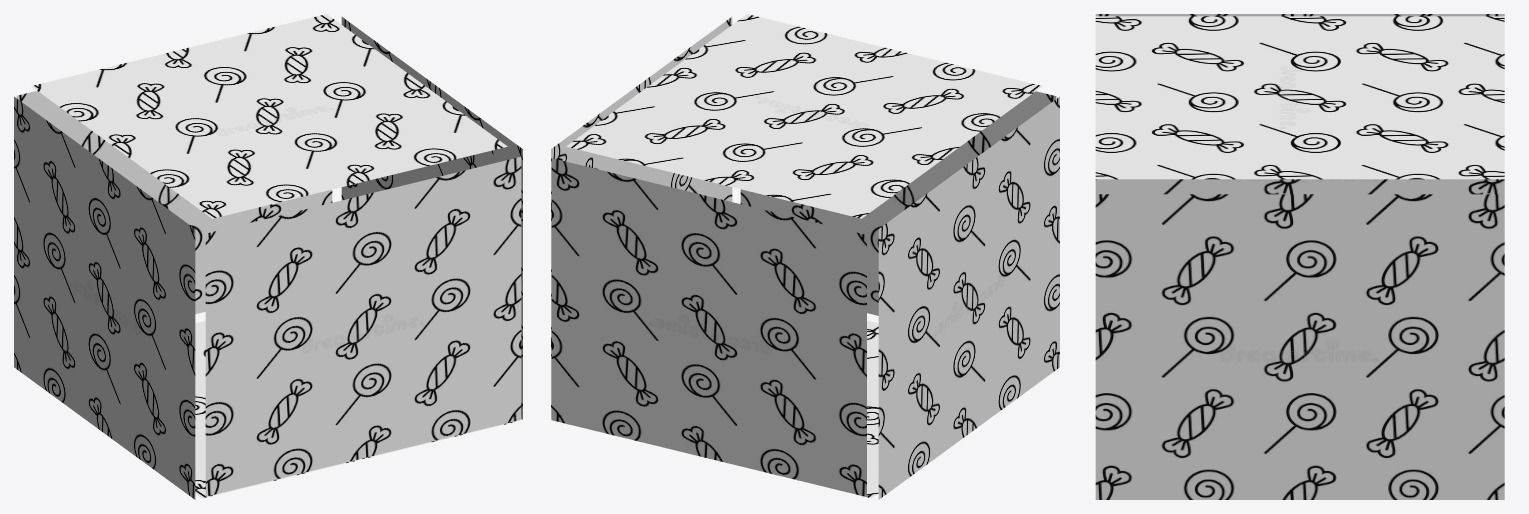
Rendered from pattern5-9x9x5.gltf.
3 renders of one model, left to right at view 1: azimuth 30°, elevation 25°; view 2: azimuth 150°, elevation 25°; view 3: azimuth 270°, elevation 25°, orthographic. The views are drawn at different scales.
Parts seen in each view (by area): view 1: Cube.005; view 2: Cube.005; view 3: Cube.005.
Boxes of the visible parts, x1,y1,x2,y2 form: Cube.005: [14, 14, 522, 499]; Cube.005: [551, 14, 1059, 499]; Cube.005: [1095, 14, 1504, 499].
Bounding box in the file's own units: 3 × 2.43 × 3.
Materials: 1 (1 with a texture image).
